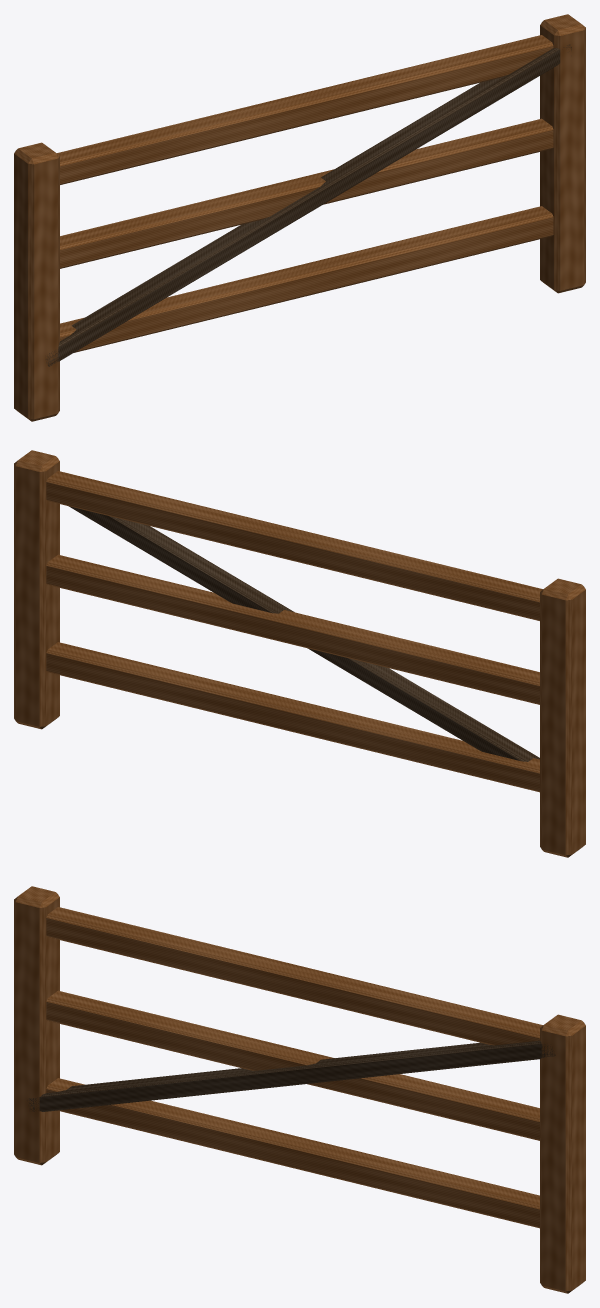
The model's file is pasture_gate.glb.
The picture shows the model from 3 angles, top to bottom: view 1: azimuth 30°, elevation 25°; view 2: azimuth 150°, elevation 25°; view 3: azimuth 330°, elevation 25°; orthographic projection.
Visible parts, largest first — view 1: pasture_gate; view 2: pasture_gate; view 3: pasture_gate.
Boxes of the visible parts, x1=… form: pasture_gate: x1=14, y1=14, x2=585, y2=421; pasture_gate: x1=14, y1=450, x2=585, y2=857; pasture_gate: x1=14, y1=886, x2=585, y2=1293.
Bounding box in the file's own units: 4.88 × 2.2 × 0.28.
Materials: 1 (1 with a texture image).
